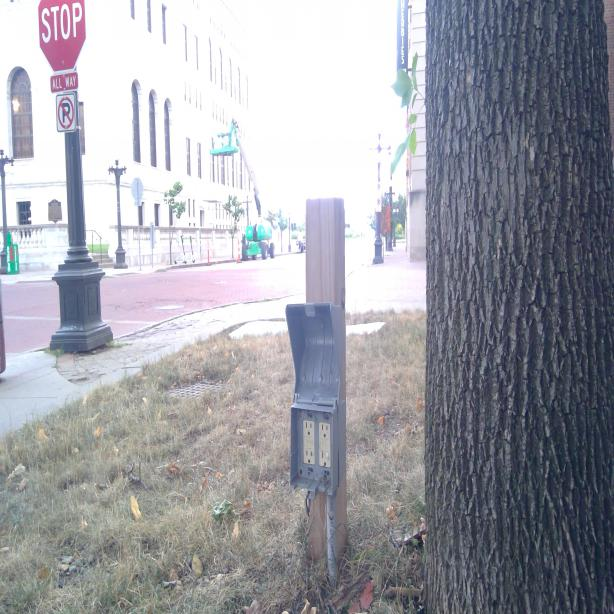typeb: (302, 417, 314, 438), (320, 421, 330, 442), (304, 446, 315, 465), (320, 448, 330, 468)
